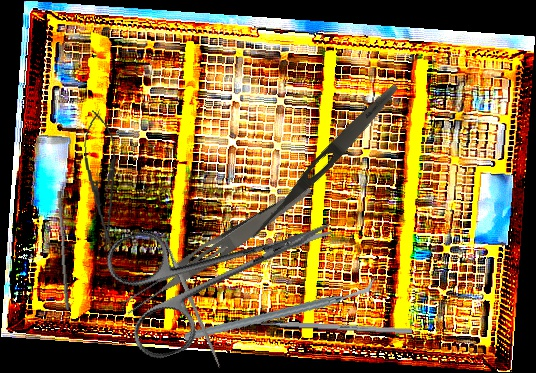Chopper: (182, 249, 379, 370)
Dressing Forceps: (117, 175, 316, 320), (245, 79, 403, 247)
Iris Scissors: (100, 172, 355, 366)
Needle Holder: (79, 108, 125, 253)
Pusher: (52, 190, 75, 311), (243, 319, 413, 335)
Scalpel Handle: (162, 236, 223, 370)
